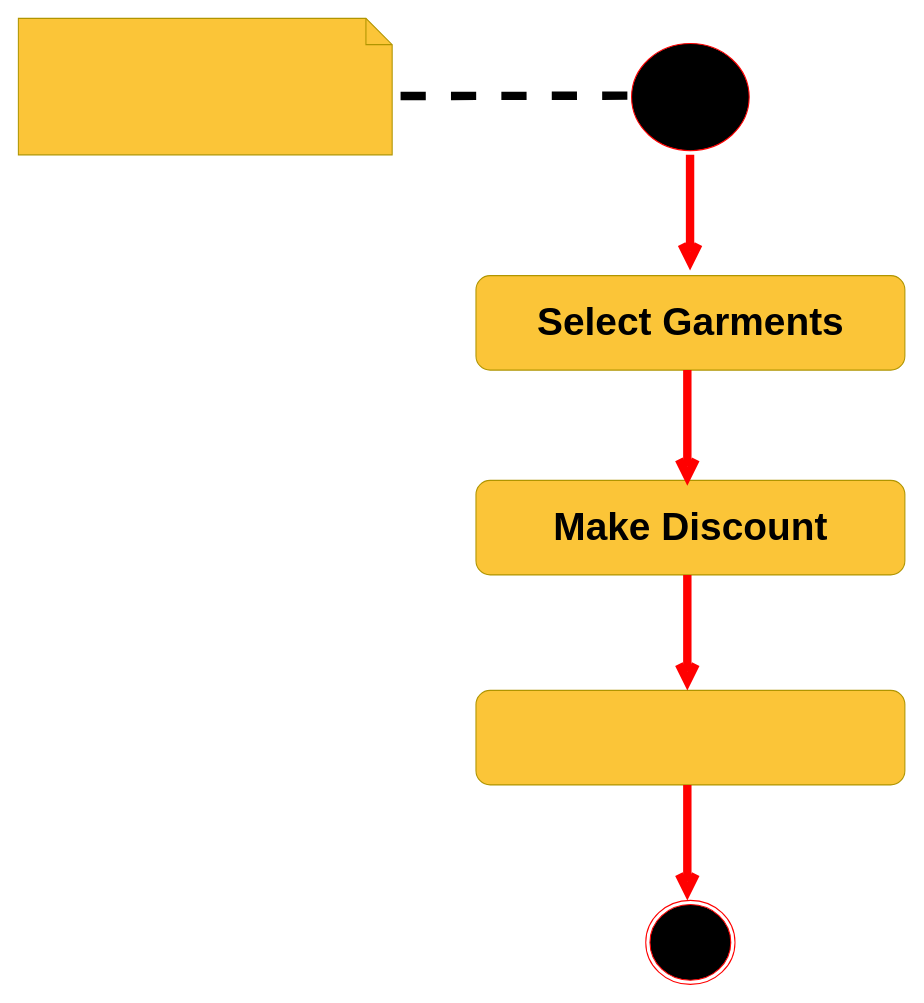
The diagram is 924 pixels wide and 1003 high, and some of its shapes have lost their labels. Here are the shapes that lost their labels. From the top down, the box of each, then its label:
(17, 17, 392, 155): Logged Into system
(475, 689, 905, 785): Update Garment price
